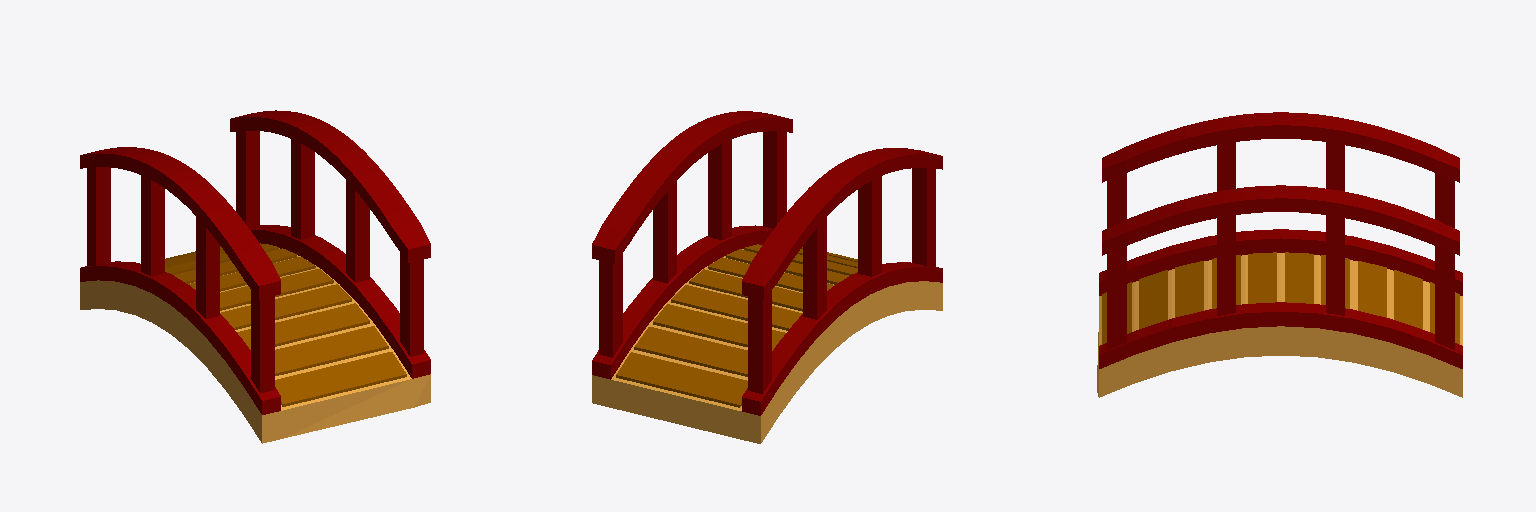
3 renders of one model, left to right at view 1: azimuth 30°, elevation 25°; view 2: azimuth 150°, elevation 25°; view 3: azimuth 270°, elevation 25°, orthographic.
Parts seen in each view (by area): view 1: Plane; view 2: Plane; view 3: Plane.
Part boxes in pixels (x1,y1,x2,y2): Plane: (80, 110, 430, 443); Plane: (592, 111, 942, 443); Plane: (1097, 112, 1462, 397).
Size of the model in its own units: 1.77 by 1.93 by 3.19.
Materials: 3 (2 with a texture image).